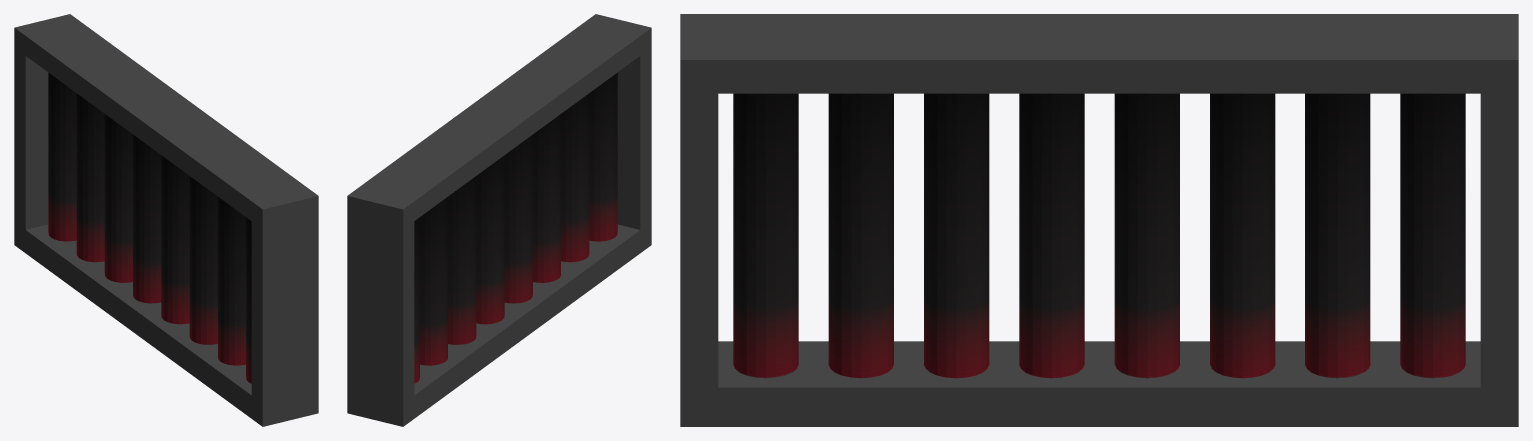
Rendered from Window_OBJ.fbx.
3 views of the same model, side by side, from view 1: azimuth 30°, elevation 25°; view 2: azimuth 150°, elevation 25°; view 3: azimuth 270°, elevation 25° (orthographic). The views are drawn at different scales.
Parts seen in each view (by area): view 1: Cube; view 2: Cube; view 3: Cube.
Part boxes in pixels (bbox=[...]): Cube: bbox=[14, 14, 318, 426]; Cube: bbox=[347, 14, 651, 426]; Cube: bbox=[680, 14, 1518, 426].
Bounding box in the file's own units: 50 × 186 × 385.
